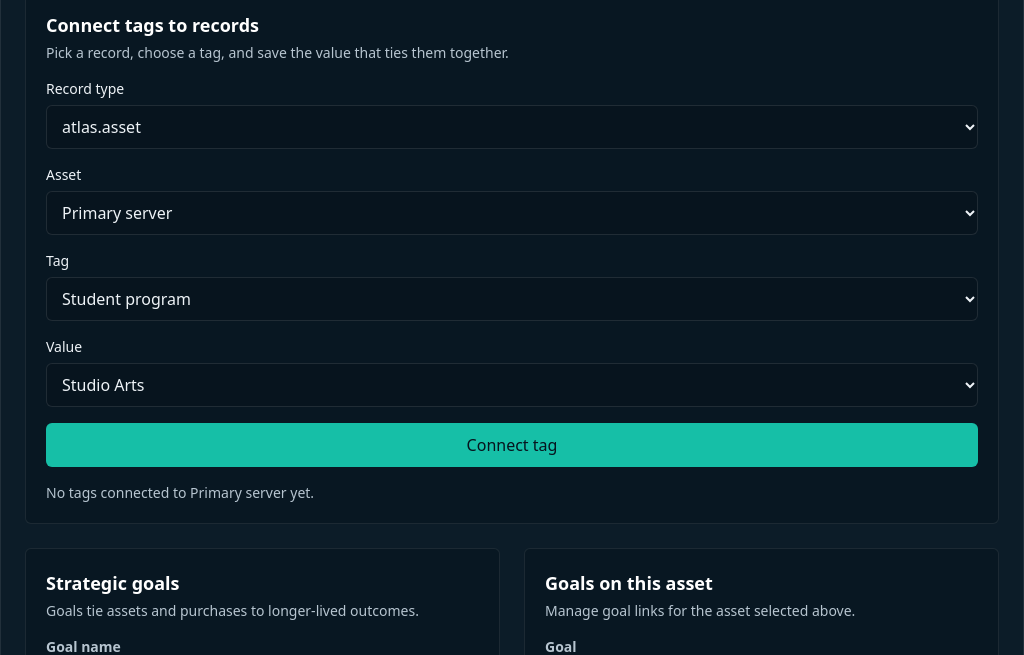
TagsManager connects a configured tag to an asset
(page scrolled)
Select "Studio Arts" in the dropdown labelled "Value": (512, 384) [46,362,978,406]
Click the button "Connect tag": (512, 444) [46,422,978,466]
(page scrolled)
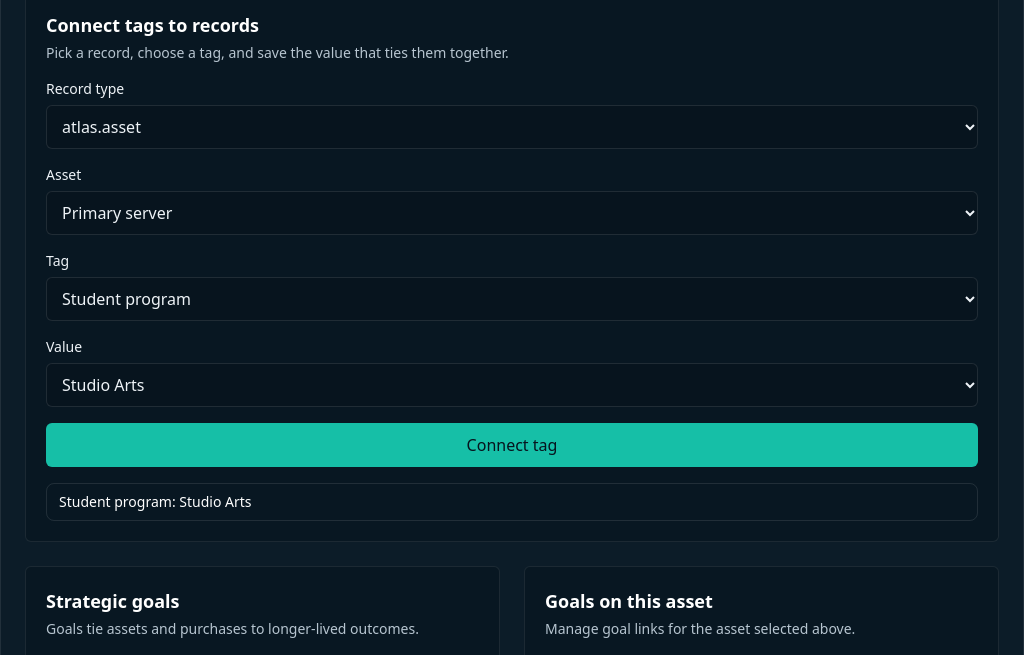
Now the list item "Student program: Studio Arts" is shown, box [46,482,978,520]
